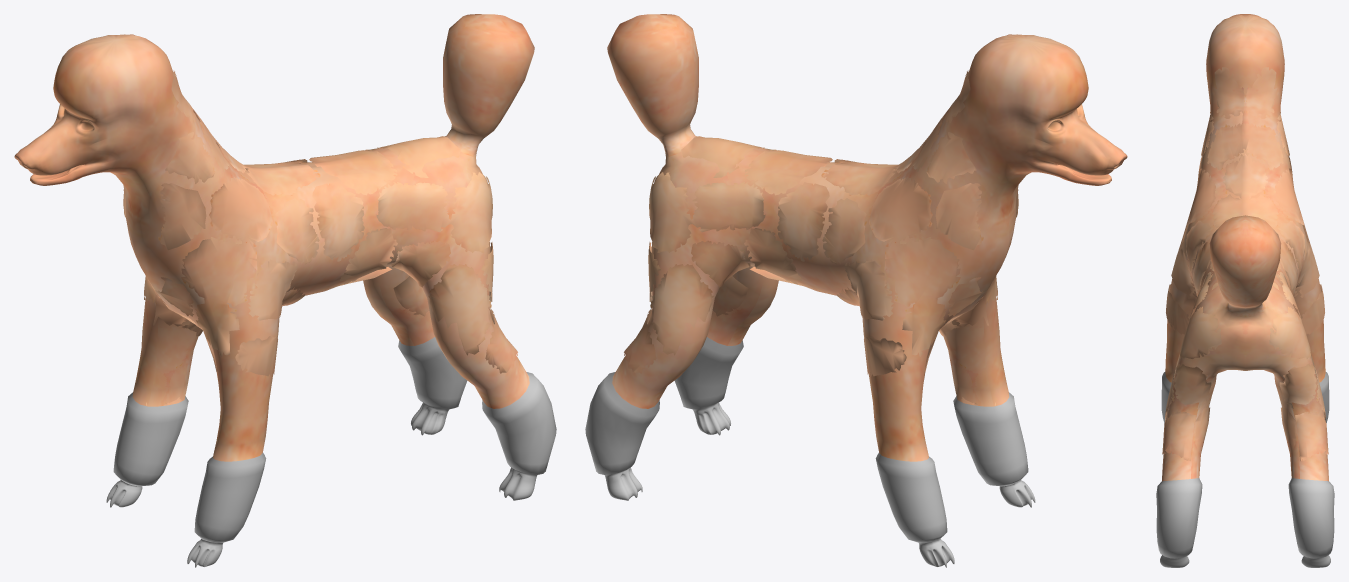
File: PoodlePaintFur.fbx
3 views of the same model, side by side, from view 1: azimuth 30°, elevation 25°; view 2: azimuth 150°, elevation 25°; view 3: azimuth 270°, elevation 25° (orthographic). The views are drawn at different scales.
Visible parts, largest first — view 1: Dog new_Body Paint.002, Dog new_Body Paint.001; view 2: Dog new_Body Paint.002, Dog new_Body Paint.001; view 3: Dog new_Body Paint.002, Dog new_Body Paint.001.
Part boxes in pixels (x1,y1,x2,y2): Dog new_Body Paint.002: (14,14,556,567); Dog new_Body Paint.001: (123,70,517,405); Dog new_Body Paint.002: (585,14,1127,567); Dog new_Body Paint.001: (624,70,1018,405); Dog new_Body Paint.002: (1156,14,1334,567); Dog new_Body Paint.001: (1162,67,1328,460).
Bounding box in the file's own units: 318 × 301 × 121.
